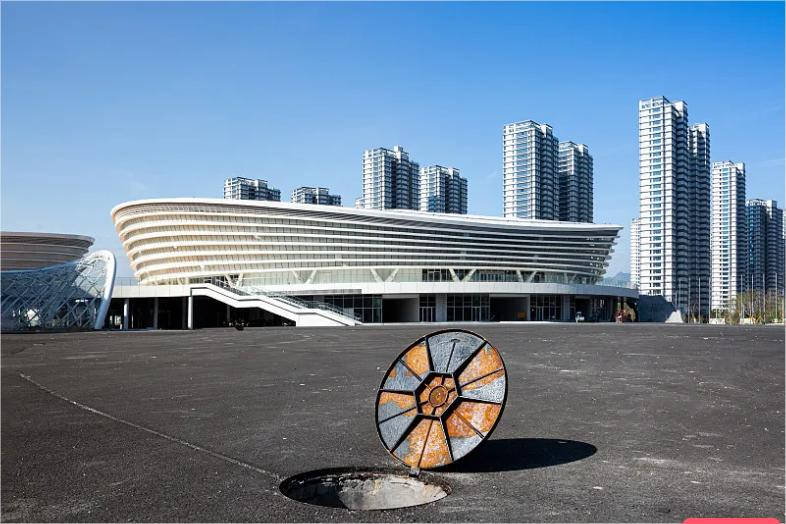wellcover: (239, 319, 555, 520)
